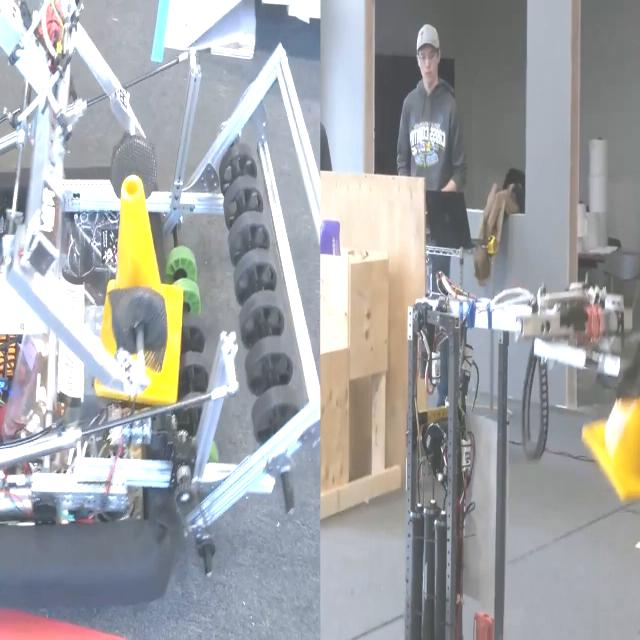frc_cone: (96, 174, 181, 400), (582, 361, 640, 511)
frc_cube: (321, 216, 342, 258)
